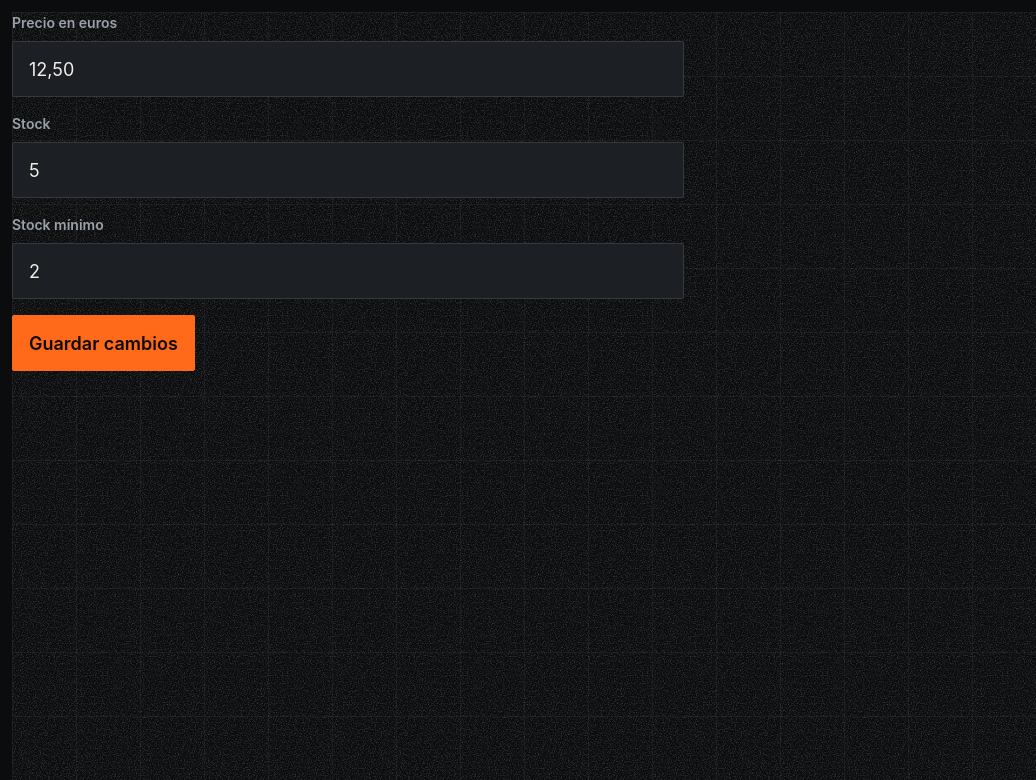
Test: FormularioRecambio: cuando hay errores › [D-14] tras un error se conserva lo que se había escrito, no se vuelve a lo anterior
Replace the text in the field labelled "Stock" with "abc" at x=348, y=170, box [12, 142, 684, 198]
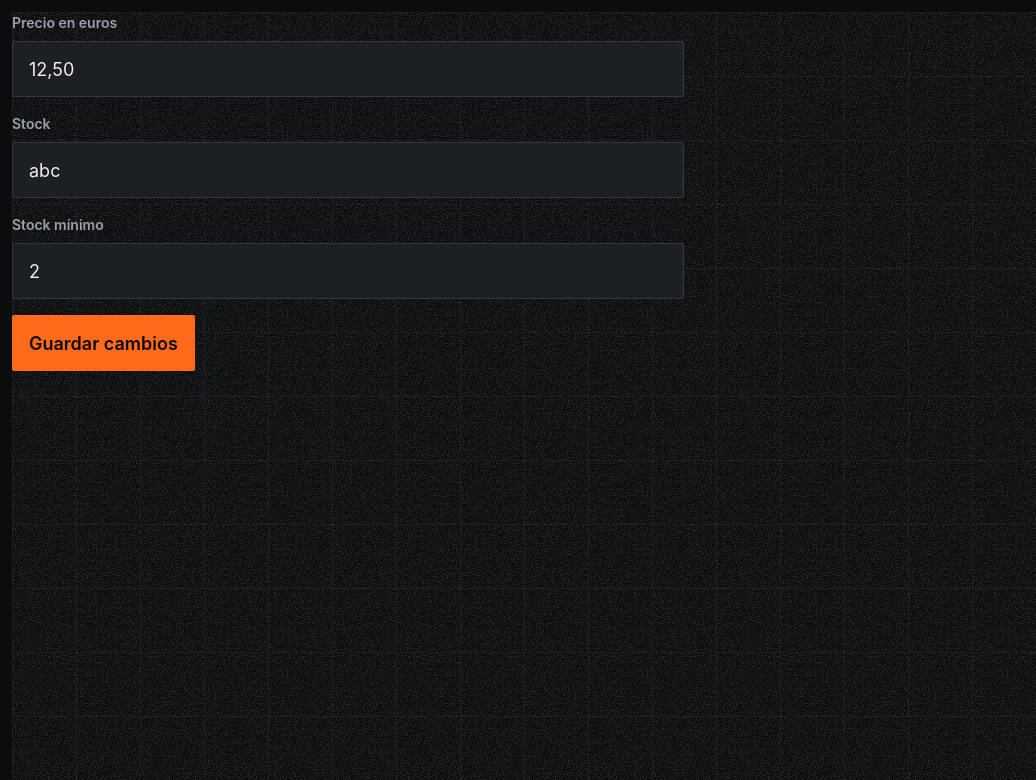
Replace the text in the field labelled "Precio en euros" with "12,5" at x=348, y=69, box [12, 41, 684, 97]
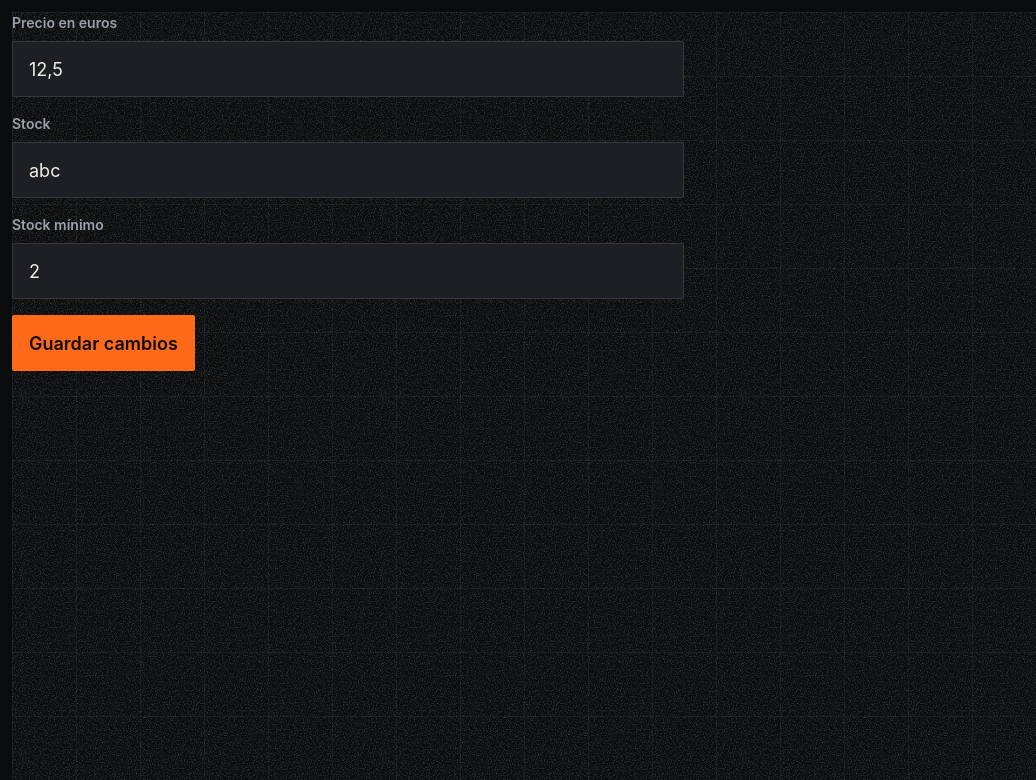
Click the button "Guardar cambios".
click(103, 343)  # box [12, 315, 195, 371]
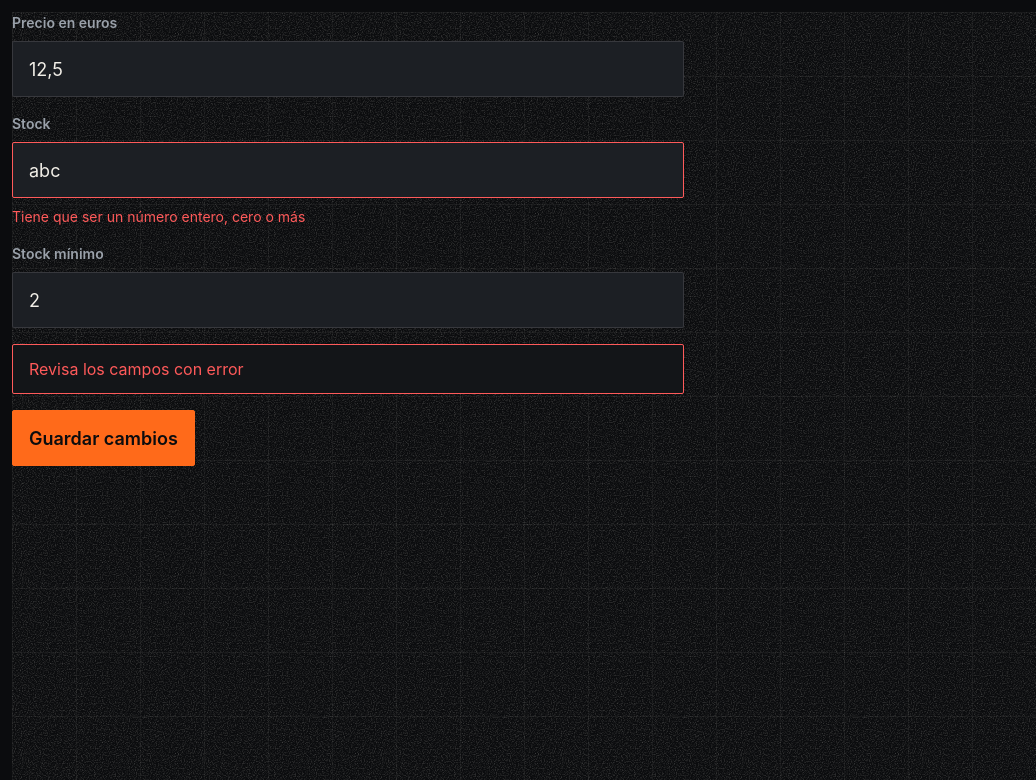
Result: the message "Revisa los campos con error" is shown at [12, 344, 684, 394]
